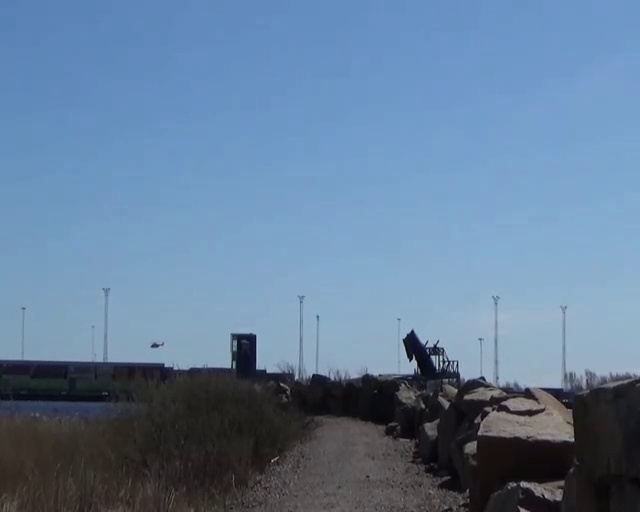HELICOPTER: (151, 340, 164, 348)
